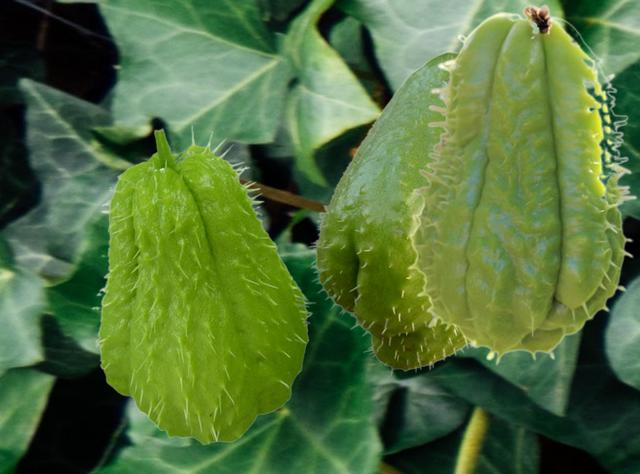sayote: (406, 3, 636, 365), (91, 124, 314, 444), (308, 49, 469, 374)
